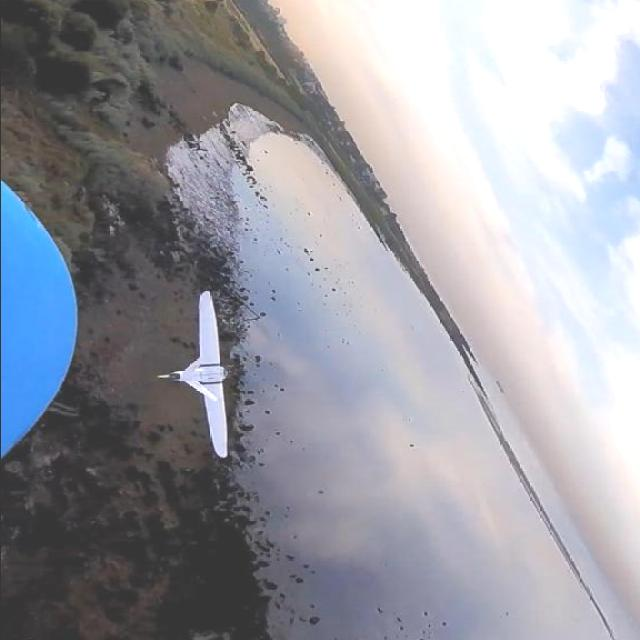plane: (156, 288, 234, 459)
